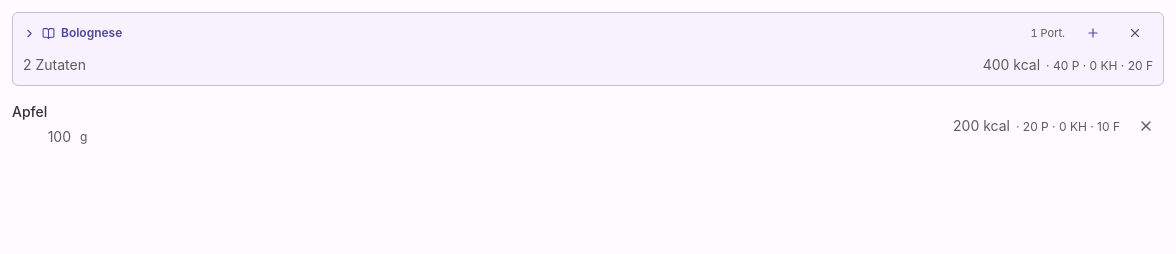
Test: EntryList — recipe batch grouping › groups batch entries into one card with banner (recipe name + portions) and keeps ad-hoc entries outside
Expected: the text "Bolognese" is shown, [61, 25, 122, 40]
Expected: the text "1 Port." is shown, [1030, 26, 1065, 40]
Click the button with aria-label "Zutaten von „Bolognese“". click: (92, 32)
box: [23, 21, 1020, 45]
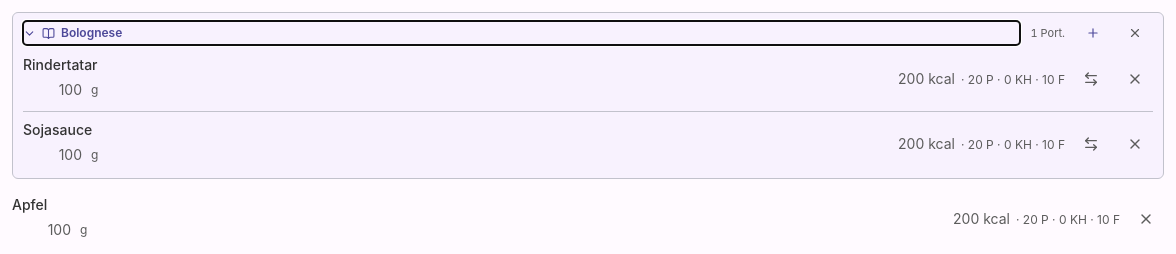
Expected: the text "Apfel" is shown, [12, 196, 47, 213]
Expected: the text "Rindertatar" is shown, [23, 55, 98, 75]
Expected: the text "Sojasauce" is shown, [23, 120, 98, 140]
